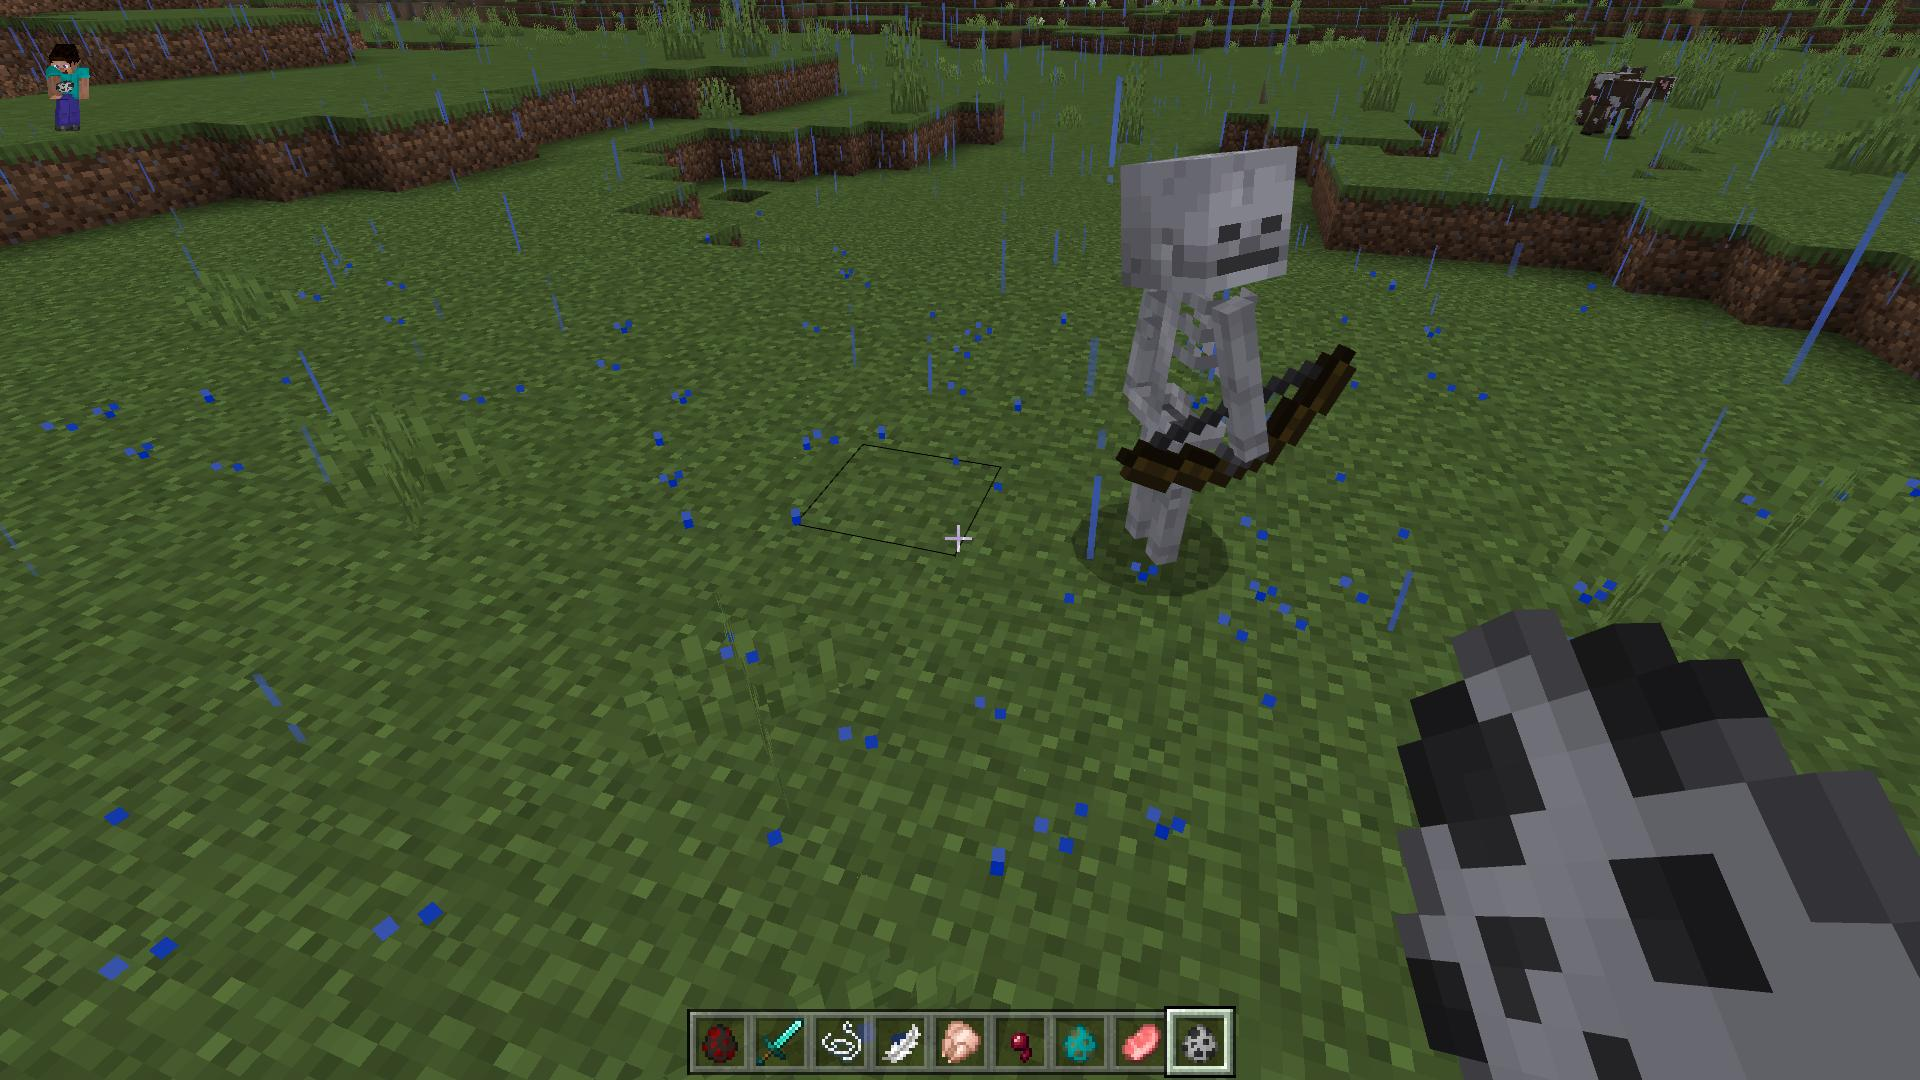cow: (1581, 62, 1669, 141)
skeleton: (1106, 141, 1357, 574)
